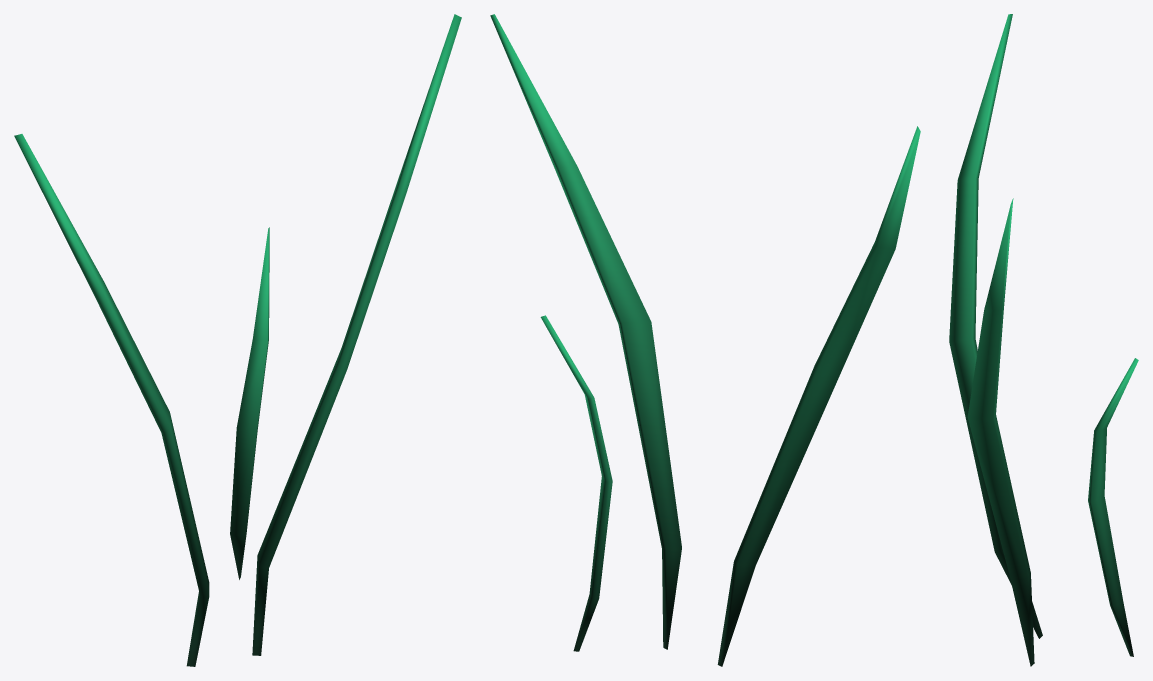
Rendered from grass2.fbx.
The picture shows the model from 3 angles, left to right: view 1: azimuth 30°, elevation 25°; view 2: azimuth 150°, elevation 25°; view 3: azimuth 270°, elevation 25°; orthographic projection. The views are drawn at different scales.
Visible parts, largest first — view 1: grass11; view 2: grass11; view 3: grass11.
Part boxes in pixels (bbox=[...]): grass11: bbox=[14, 14, 461, 666]; grass11: bbox=[490, 14, 920, 666]; grass11: bbox=[949, 14, 1138, 666].
Bounding box in the file's own units: 41.4 × 53.49 × 16.67.
